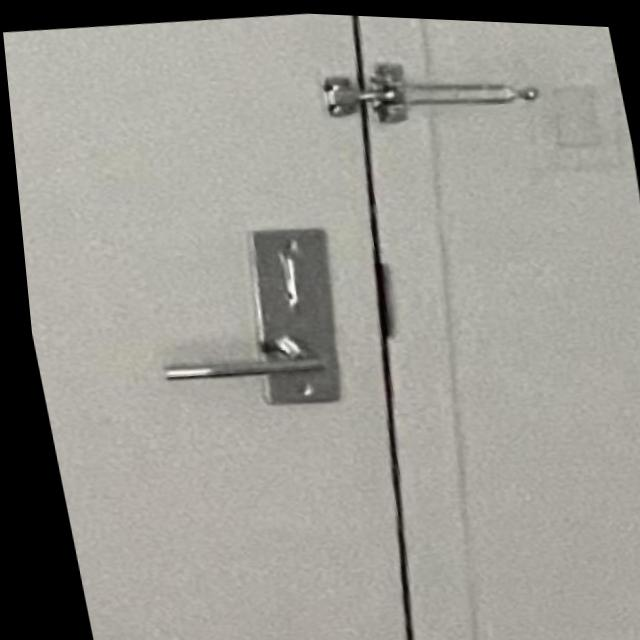door_handle: (128, 300, 379, 419)
